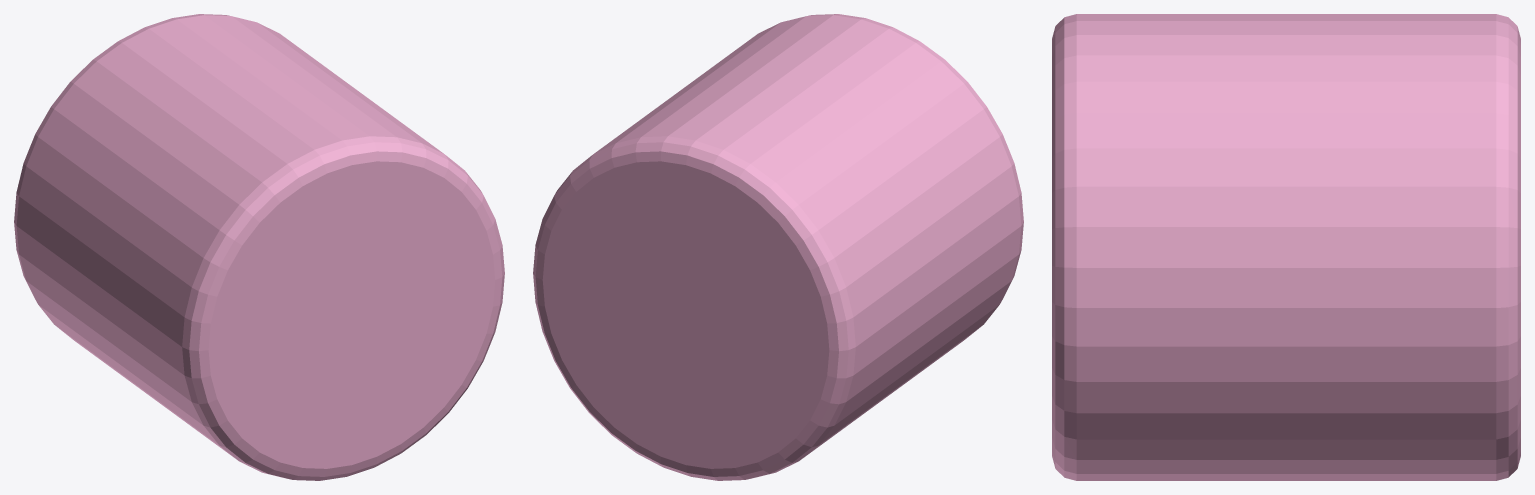
Rendered from marshmallow pink.obj.
3 renders of one model, left to right at view 1: azimuth 30°, elevation 25°; view 2: azimuth 150°, elevation 25°; view 3: azimuth 270°, elevation 25°, orthographic. The views are drawn at different scales.
Visible parts, largest first — view 1: obj_0; view 2: obj_0; view 3: obj_0.
Part boxes in pixels (x1,y1,x2,y2): obj_0: (14,14,504,480); obj_0: (533,14,1023,480); obj_0: (1052,14,1520,480).
Bounding box in the file's own units: 75 × 75 × 75.
